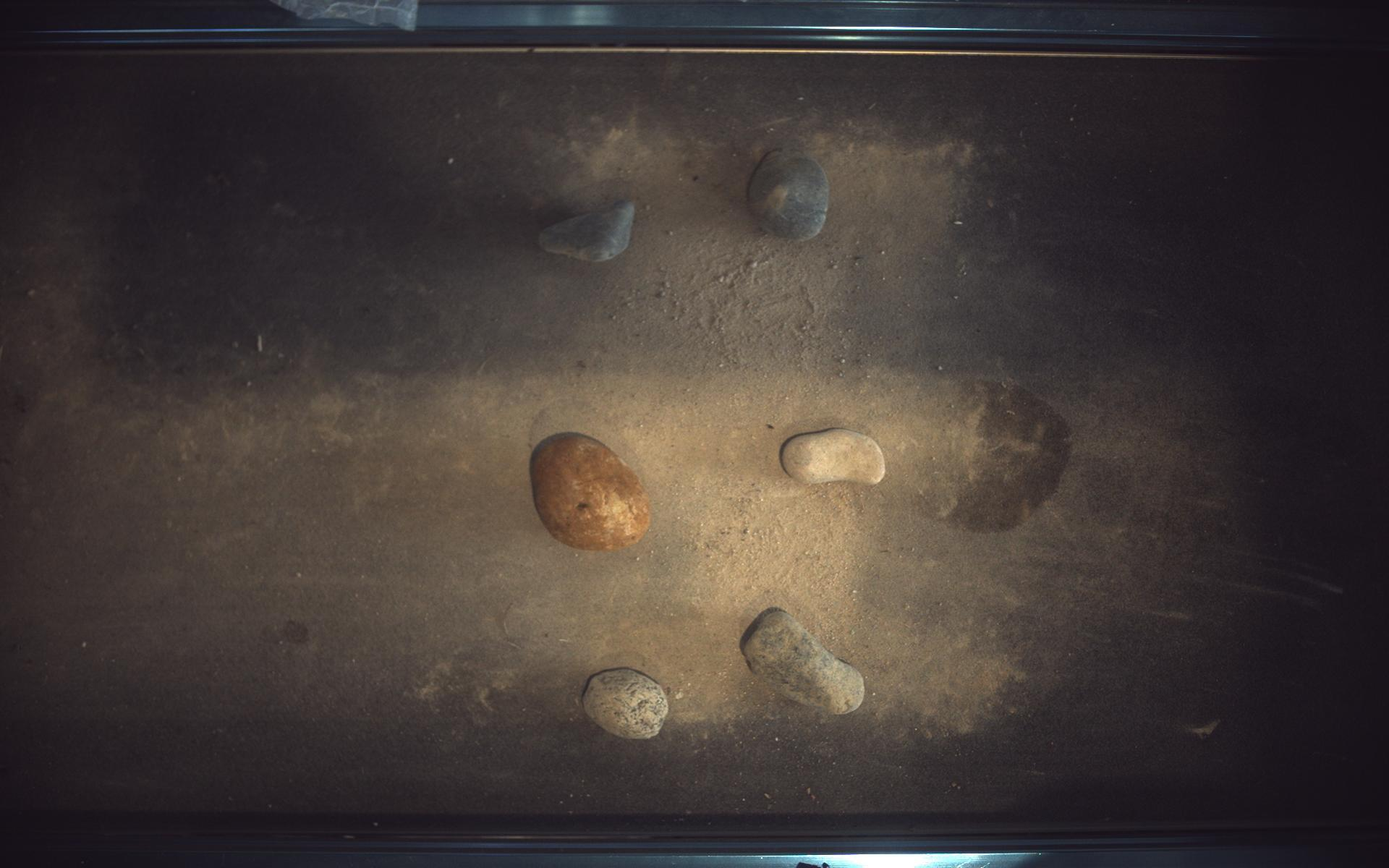stone: (530, 432, 651, 551), (741, 608, 866, 716), (749, 148, 831, 239), (583, 669, 668, 740), (782, 429, 887, 485), (540, 200, 636, 261)
